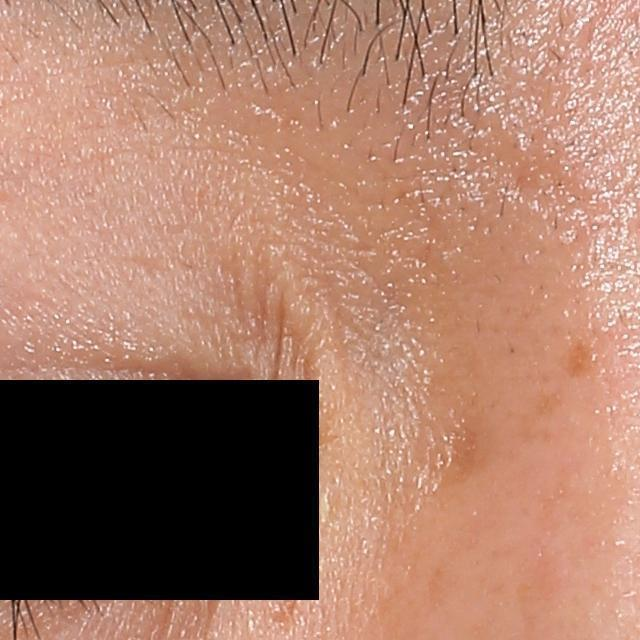melasma: (556, 334, 603, 381)
other: (422, 422, 478, 489)
